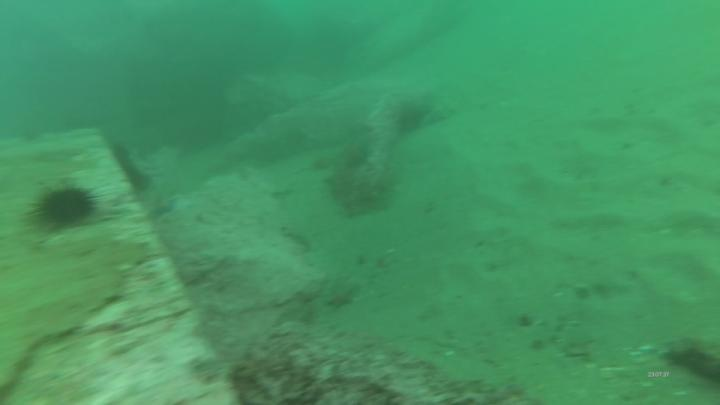echinus: (36, 188, 94, 230)
